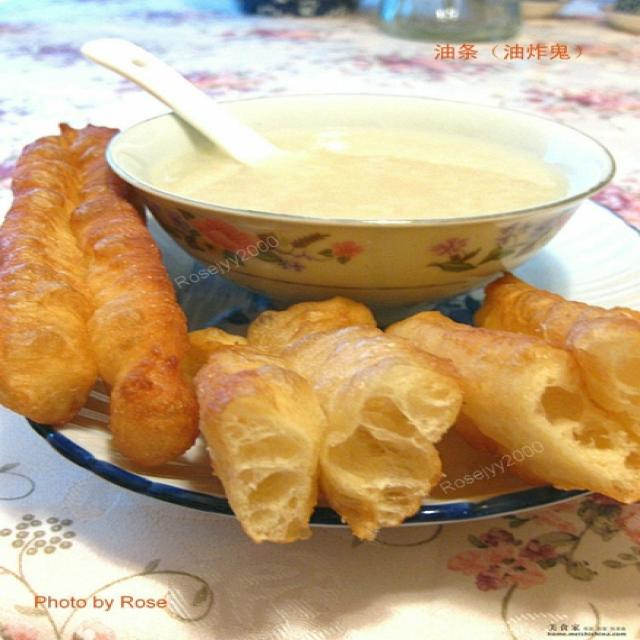炸货点心: (14, 55, 616, 584)
